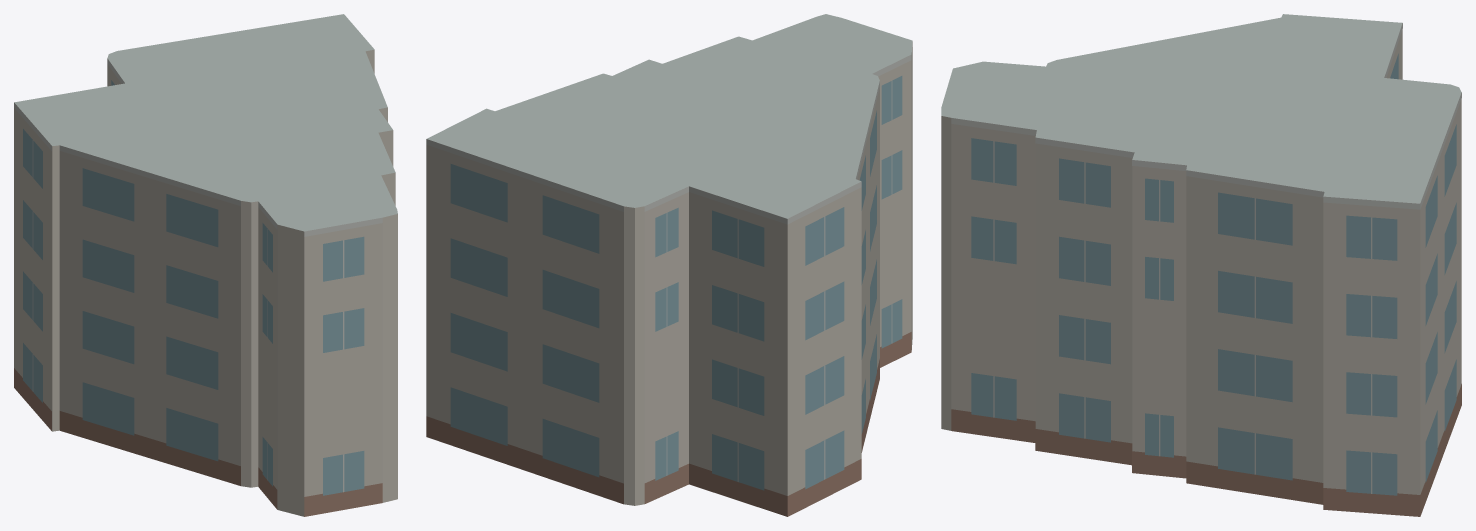
Rendered from survey-upis-32975602.glb.
3 renders of one model, left to right at view 1: azimuth 30°, elevation 25°; view 2: azimuth 150°, elevation 25°; view 3: azimuth 270°, elevation 25°, orthographic. The views are drawn at different scales.
Visible parts, largest first — view 1: survey-upis-32975602.tmp; view 2: survey-upis-32975602.tmp; view 3: survey-upis-32975602.tmp.
Part boxes in pixels (x1,y1,x2,y2): survey-upis-32975602.tmp: (14, 14, 397, 516); survey-upis-32975602.tmp: (426, 14, 912, 516); survey-upis-32975602.tmp: (941, 14, 1461, 516).
Size of the model in its own units: 16.64 by 12.8 by 19.29.
